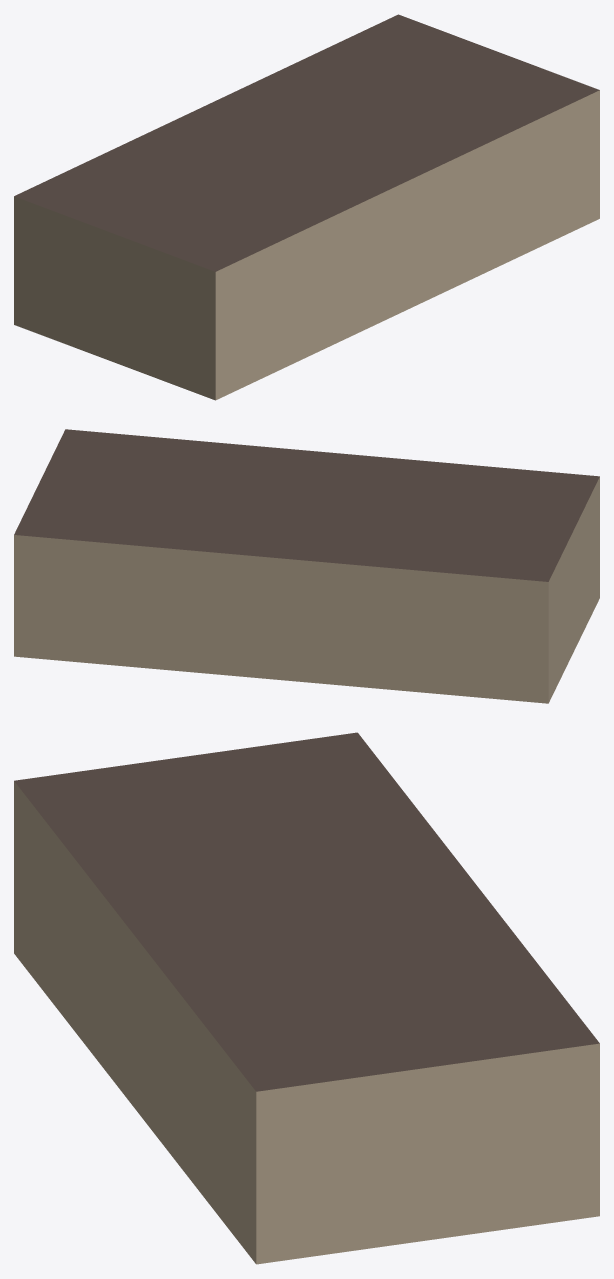
The picture shows the model from 3 angles, top to bottom: view 1: azimuth 30°, elevation 25°; view 2: azimuth 150°, elevation 25°; view 3: azimuth 270°, elevation 25°; orthographic projection. The views are drawn at different scales.
Visible parts, largest first — view 1: HP-w859457463; view 2: HP-w859457463; view 3: HP-w859457463.
Boxes of the visible parts, x1,y1,x2,y2 form: HP-w859457463: [14, 14, 599, 400]; HP-w859457463: [14, 429, 599, 703]; HP-w859457463: [14, 732, 599, 1264].
Size of the model in its own units: 40.15 by 9 by 27.67.
